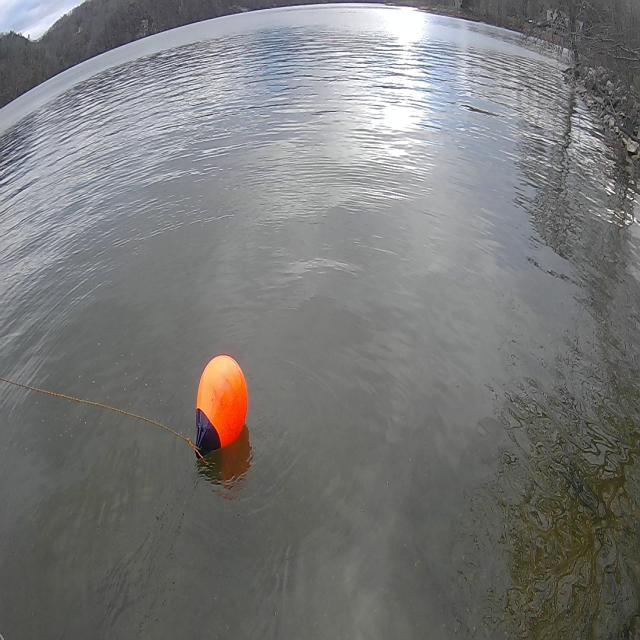Buoy: (190, 347, 250, 464)
